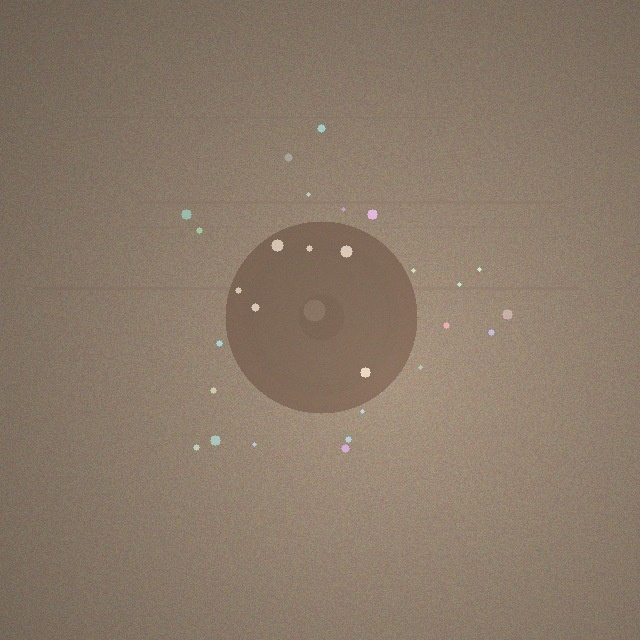overburn: (225, 221, 417, 413)
